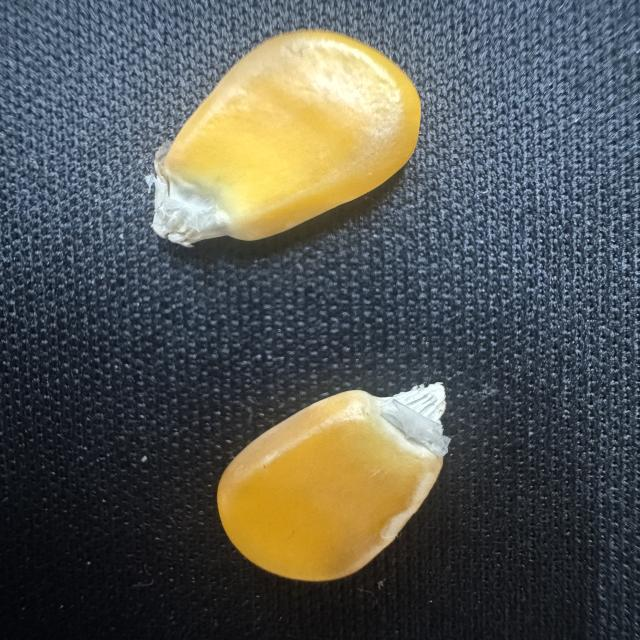Good-Seed: (132, 22, 426, 256), (206, 367, 463, 587)
